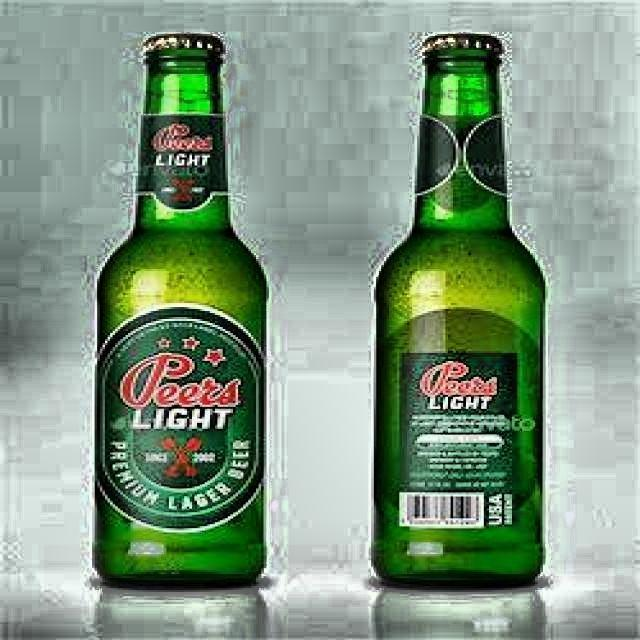glass: (370, 33, 547, 590), (92, 33, 268, 590)
